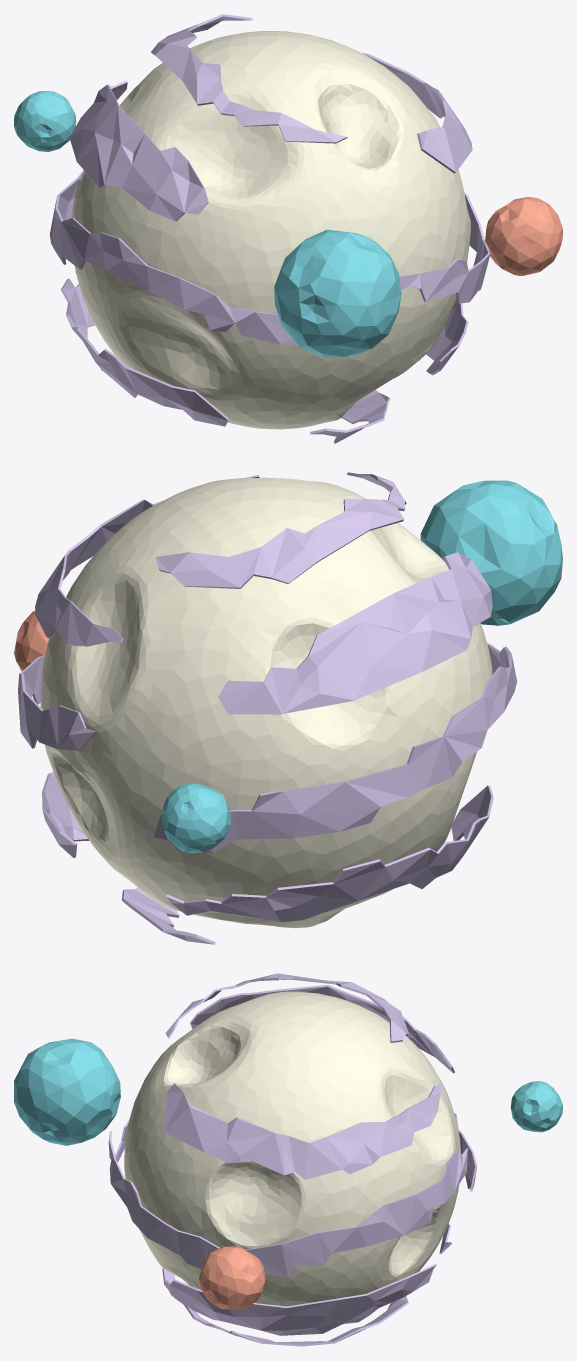
File: Planet_38.glb
The picture shows the model from 3 angles, top to bottom: view 1: azimuth 30°, elevation 25°; view 2: azimuth 150°, elevation 25°; view 3: azimuth 270°, elevation 25°; orthographic projection. The views are drawn at different scales.
Parts seen in each view (by area): view 1: Planet_38; view 2: Planet_38; view 3: Planet_38.
Part boxes in pixels (x1,y1,x2,y2): Planet_38: (14, 14, 562, 443); Planet_38: (14, 472, 562, 944); Planet_38: (14, 973, 562, 1346).
Bounding box in the file's own units: 25.63 × 20.79 × 32.61.
1 material, 1 textured.
